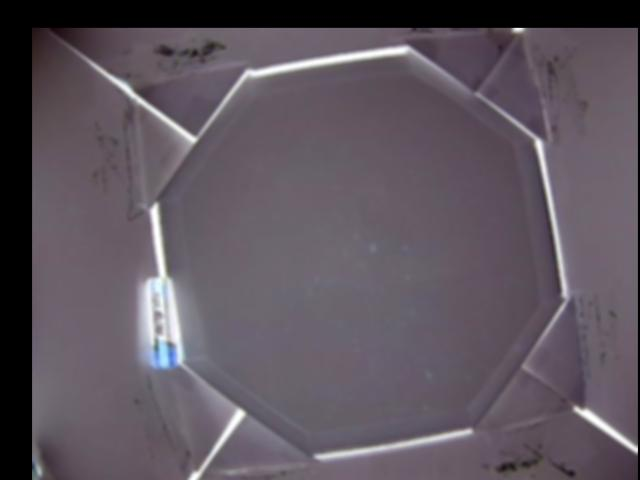Battery: (144, 277, 179, 370)
